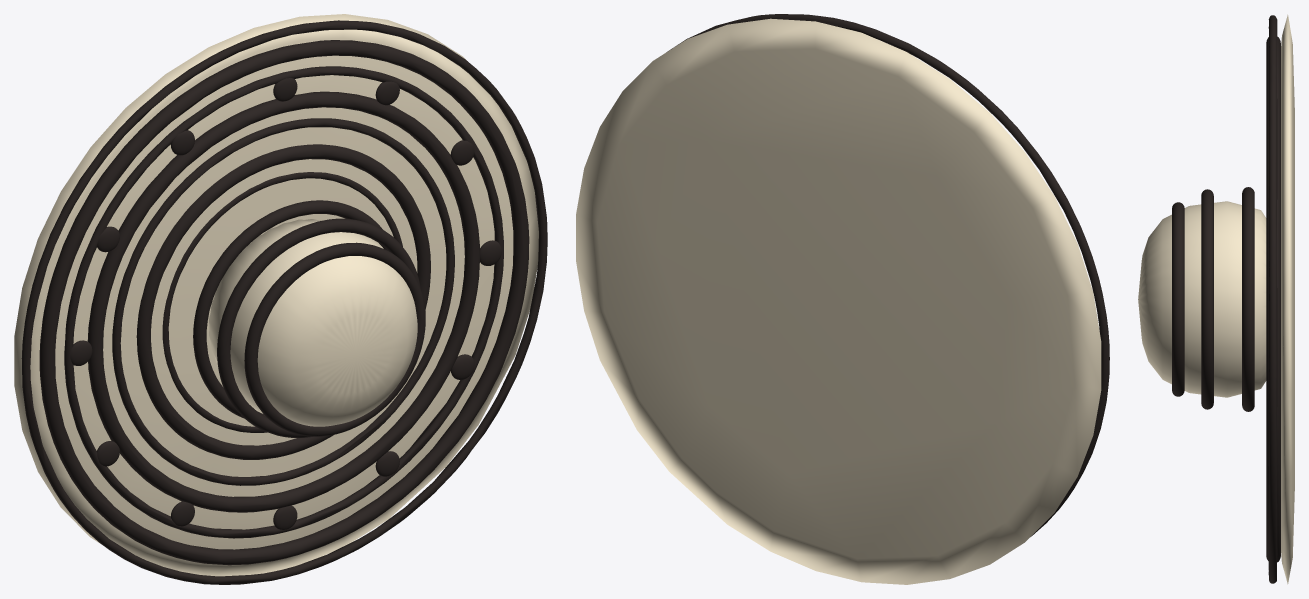
Rendered from deco_vueltiao_pared.glb.
The picture shows the model from 3 angles, left to right: view 1: azimuth 30°, elevation 25°; view 2: azimuth 150°, elevation 25°; view 3: azimuth 270°, elevation 25°; orthographic projection. The views are drawn at different scales.
Visible parts, largest first — view 1: ala vueltiao.001, copa vueltiao.001, trenza 5.001, trenza 3.001, trenza 6.001, trenza 4.001, trenza 1.001, trenza 2.001, trenza copa 2.001, trenza copa 1.001, trenza copa 0.001, trenza 0.001; view 2: ala vueltiao.001, trenza 6.001; view 3: copa vueltiao.001, ala vueltiao.001, trenza 6.001, trenza 5.001, trenza copa 0.001, trenza copa 1.001, trenza copa 2.001.
Boxes of the visible parts, x1=… form: ala vueltiao.001: x1=14, y1=14, x2=538, y2=576; copa vueltiao.001: x1=209, y1=219, x2=417, y2=426; trenza 5.001: x1=39, y1=40, x2=529, y2=565; trenza 3.001: x1=87, y1=91, x2=479, y2=512; trenza 6.001: x1=21, y1=20, x2=547, y2=584; trenza 4.001: x1=64, y1=66, x2=503, y2=538; trenza 1.001: x1=136, y1=144, x2=430, y2=459; trenza 2.001: x1=112, y1=118, x2=454, y2=485; trenza copa 2.001: x1=244, y1=242, x2=425, y2=436; trenza copa 1.001: x1=217, y1=218, x2=420, y2=437; trenza copa 0.001: x1=193, y1=200, x2=387, y2=418; trenza 0.001: x1=162, y1=172, x2=402, y2=432; ala vueltiao.001: x1=576, y1=18, x2=1101, y2=584; trenza 6.001: x1=667, y1=14, x2=1109, y2=536; copa vueltiao.001: x1=1138, y1=201, x2=1266, y2=397; ala vueltiao.001: x1=1281, y1=14, x2=1294, y2=584; trenza 6.001: x1=1268, y1=15, x2=1277, y2=583; trenza 5.001: x1=1266, y1=36, x2=1280, y2=562; trenza copa 0.001: x1=1242, y1=187, x2=1254, y2=411; trenza copa 1.001: x1=1201, y1=189, x2=1213, y2=409; trenza copa 2.001: x1=1172, y1=202, x2=1184, y2=396.
Bounding box in the file's own units: 0.4869 × 0.487 × 0.1342.
